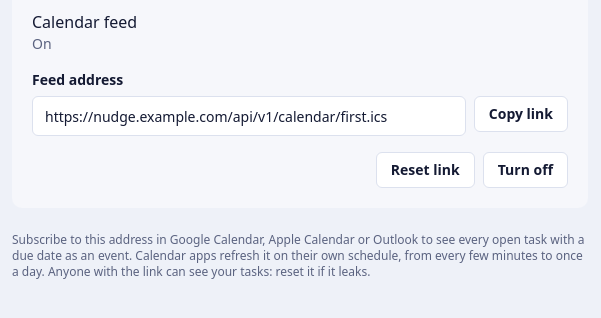
Test case: CalendarFeedSettings › copies the address
Click the button "Copy link" at (521, 114), box [474,96,568,132]
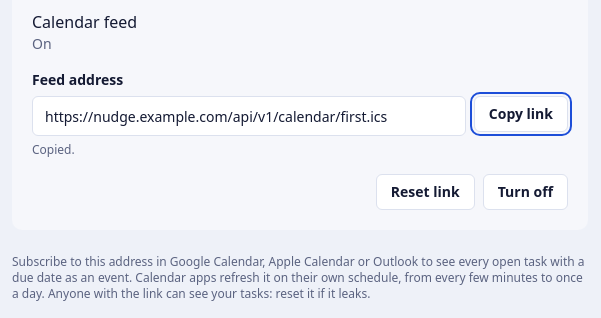
Expected: the message shows "Copied", [32,141,75,158]
